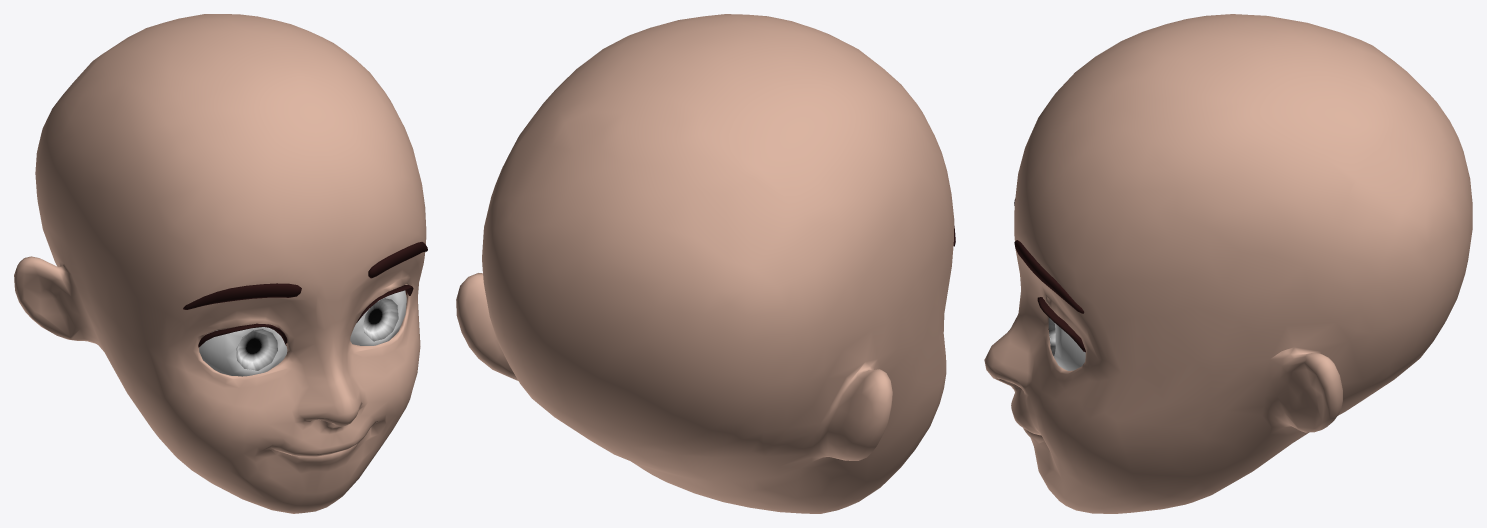
The picture shows the model from 3 angles, left to right: view 1: azimuth 30°, elevation 25°; view 2: azimuth 150°, elevation 25°; view 3: azimuth 270°, elevation 25°; orthographic projection. The views are drawn at different scales.
Parts seen in each view (by area): view 1: skin.001, eyes.001, brows.001, lashes.001; view 2: skin.001; view 3: skin.001, eyes.001, brows.001.
Part boxes in pixels (bbox=[...]): skin.001: bbox=[14, 14, 426, 513]; eyes.001: bbox=[199, 290, 406, 376]; brows.001: bbox=[183, 242, 427, 309]; lashes.001: bbox=[198, 285, 413, 347]; skin.001: bbox=[456, 14, 954, 513]; skin.001: bbox=[984, 14, 1472, 513]; eyes.001: bbox=[1048, 317, 1085, 370]; brows.001: bbox=[1014, 199, 1084, 313].
Size of the model in its own units: 1.79 by 2 by 1.9.
9 materials, 1 textured.
